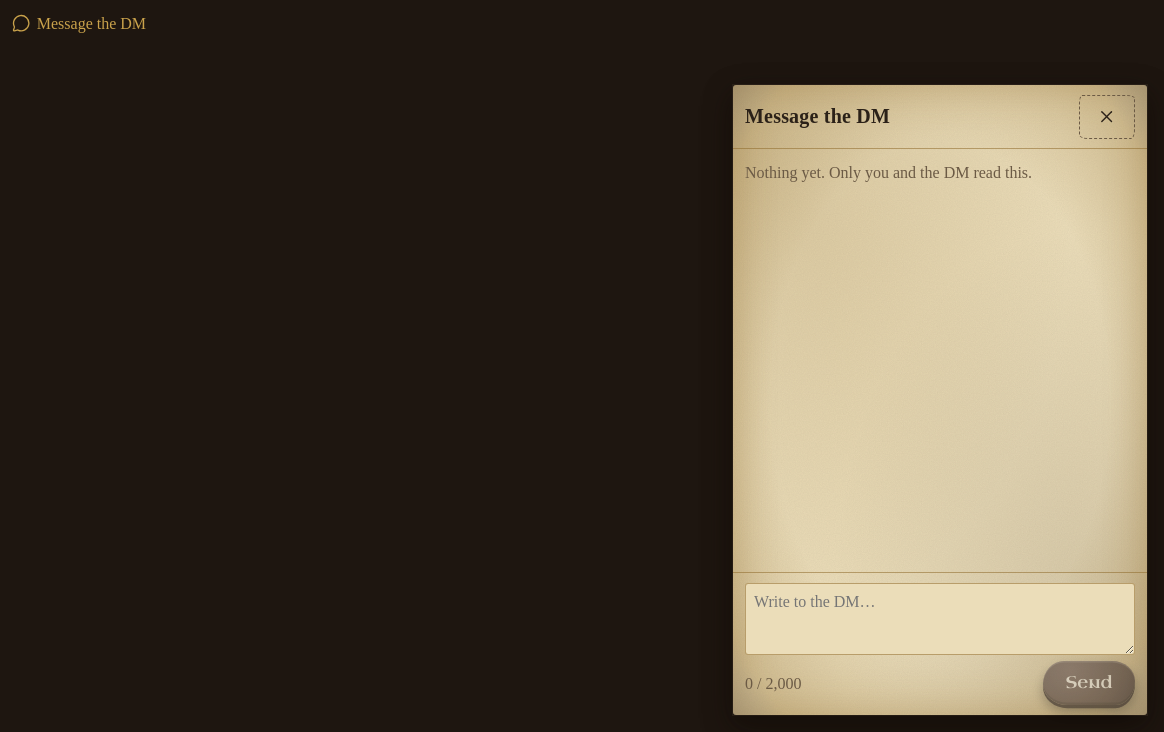
Test case: a player’s thread with the DM › says plainly when the rate limit is reached
In the text box named "Message to the DM": coordinates (940, 619) [745,583,1135,655], type "Hello"
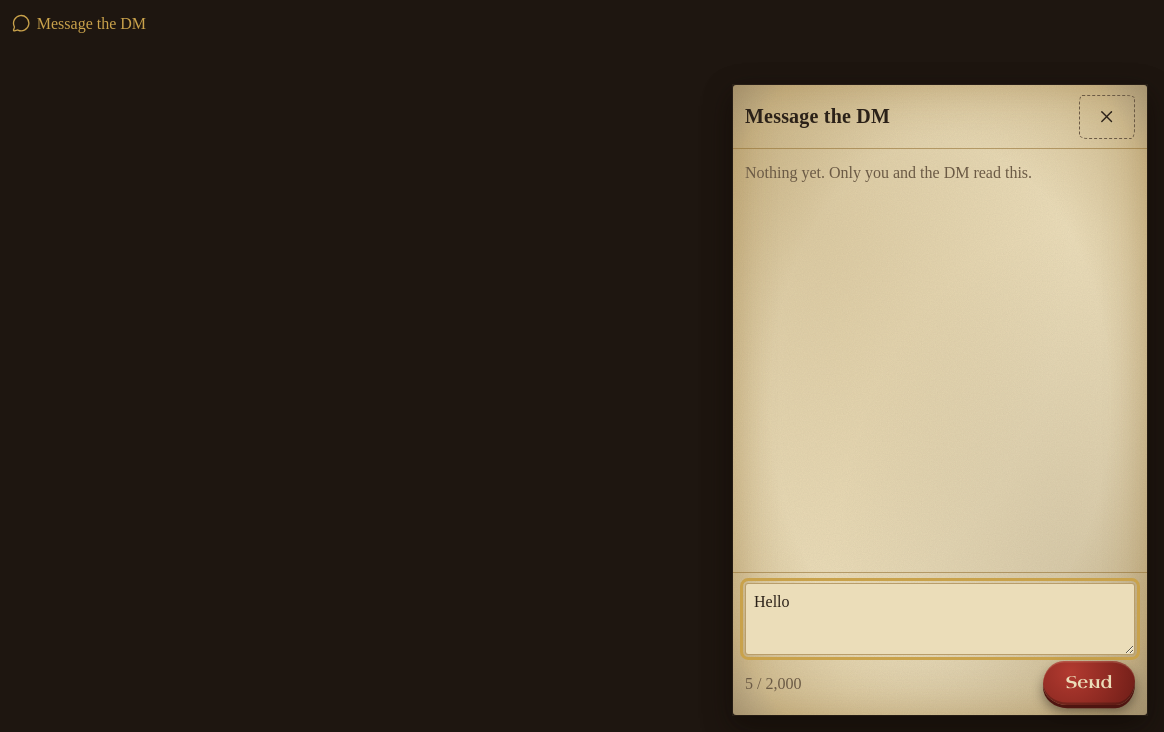
Click the button "Send": coordinates (1089, 683) [1043,661,1135,705]
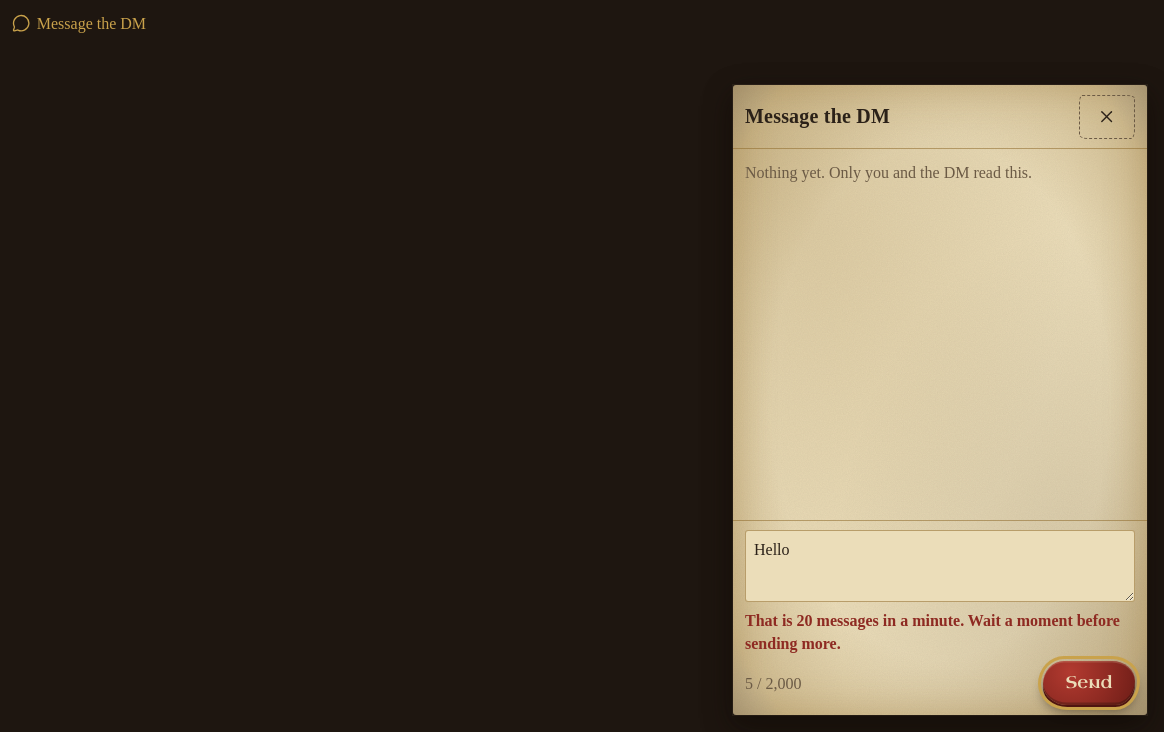
Check: the message shows "20 messages in a minute", box [745,612,1120,652]
